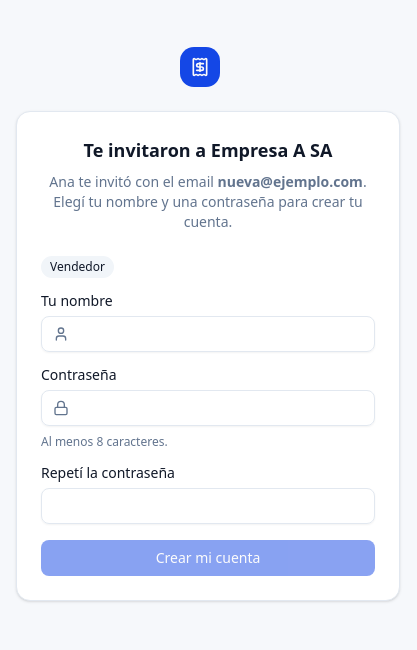
Scenario: Aceptar invitación › muestra el error del servidor (por ejemplo un nombre ya usado) y no entra
Type "Nueva Persona" into the field labelled "Tu nombre" at coordinates (208, 334), box top-left (41, 316), bottom-right (375, 352)
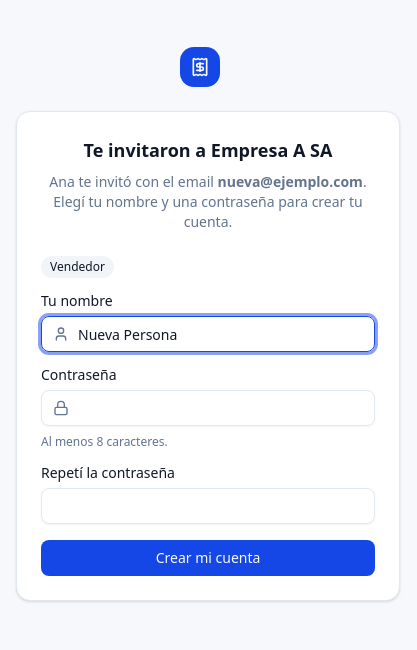
Type "password123" into the password field labelled "Contraseña" at coordinates (208, 408), box top-left (41, 390), bottom-right (375, 426)
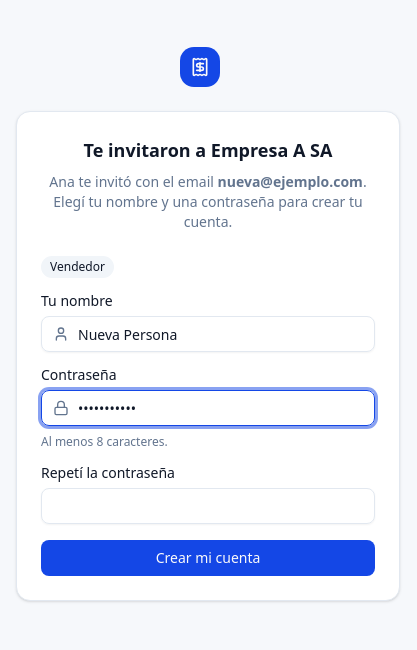
Type "password123" into the password field labelled "Repetí la contraseña" at coordinates (208, 506), box top-left (41, 488), bottom-right (375, 524)
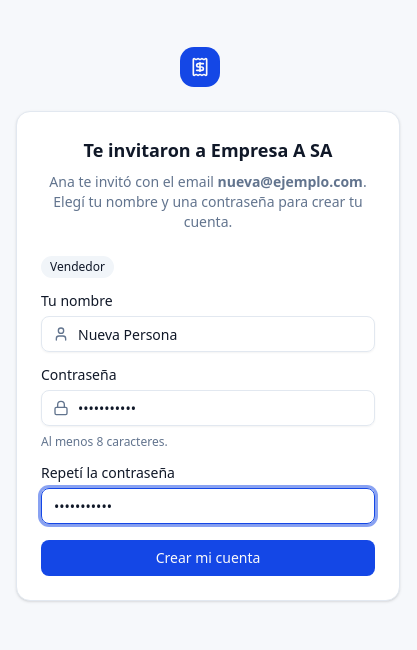
Click the button "Crear mi cuenta" at coordinates (208, 558), box top-left (41, 540), bottom-right (375, 576)
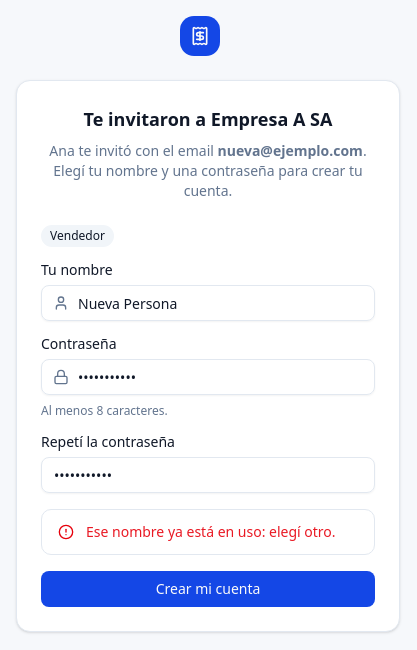
Check: the text "Ese nombre ya está en uso: elegí otro." is shown, box top-left (86, 522), bottom-right (358, 542)
